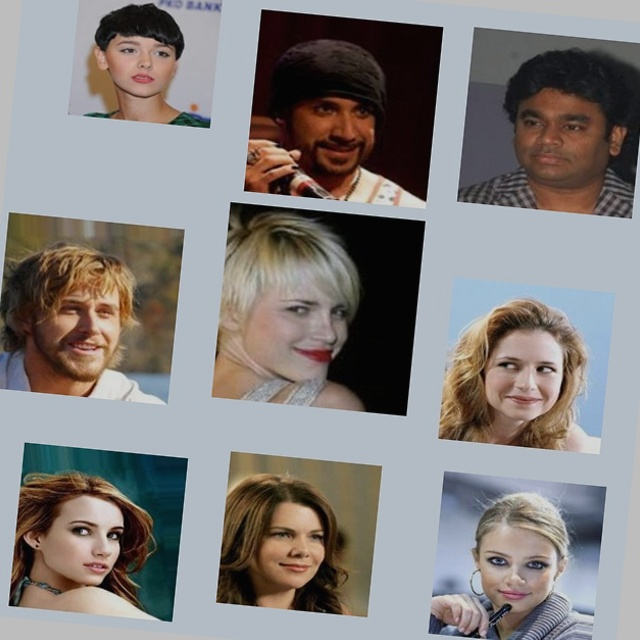celeb_10002: (472, 429, 640, 607)
celeb_2970: (54, 482, 234, 640)
celeb_3: (203, 9, 403, 209)
celeb_4428: (444, 237, 621, 414)
celeb_5695: (258, 452, 424, 618)
celeb_7: (415, 0, 607, 178)
celeb_7007: (20, 11, 176, 167)
celeb_797: (210, 203, 424, 417)
celeb_8335: (0, 258, 188, 450)
